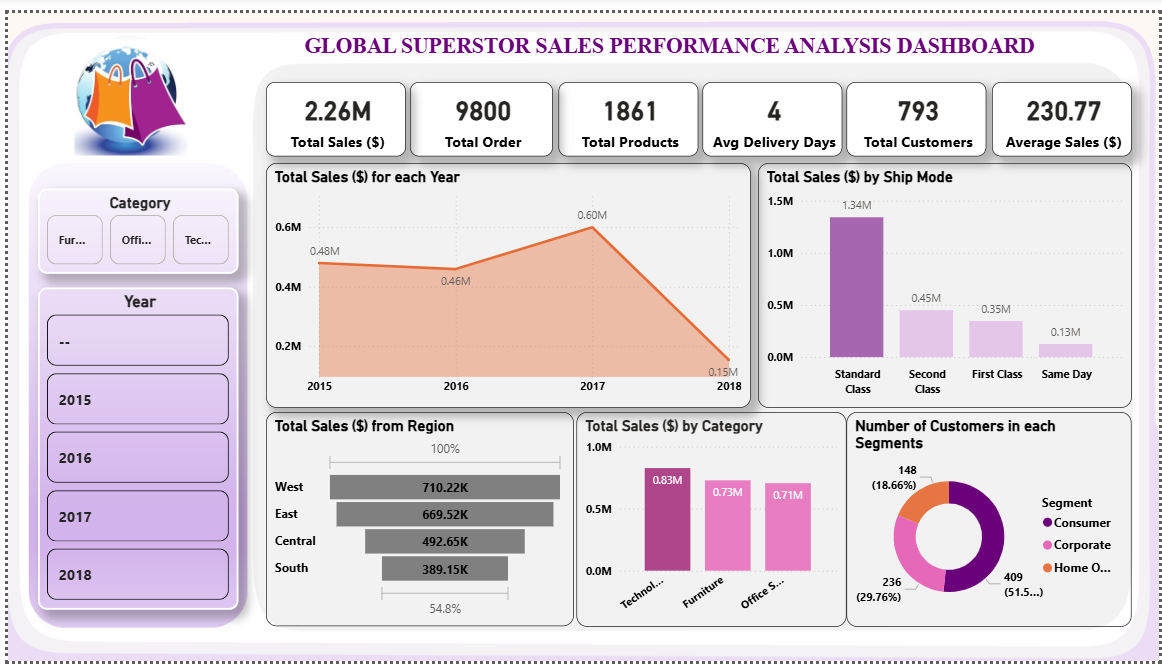

This screenshot's page, from the dashboard's own definition file:
{"tool":"powerbi","page":{"name":"Overview","canvas":[1280,720],"ordinal":1},"visuals":[{"type":"image","box":[0,0,1280,720],"z":0},{"type":"card","title":"TOTAL REVENUE","fields":{"Values":["Train.TOTAL PRODUCTS SOLD"]},"box":[611.9,77.2,155.6,82.8],"z":1000},{"type":"card","title":"TOTAL REVENUE","fields":{"Values":["Train.Total Order"]},"box":[446.9,77.2,158.7,82.8],"z":2000},{"type":"columnChart","title":"Total Sales ($) by Ship Mode","fields":{"Category":["Train.Ship Mode"],"Y":["Sum(Train.Sales ($))"]},"box":[833.3,166.7,415,271.7],"z":3000},{"type":"funnel","title":"Total Sales ($) from Region","fields":{"Category":["Train.Region"],"Y":["Sum(Train.Sales ($))"]},"box":[286.7,444,341.7,238],"z":4000},{"type":"textbox","box":[286.7,16.7,896.7,46.7],"z":5000},{"type":"image","box":[66.7,28.3,136.7,130],"z":6000},{"type":"advancedSlicerVisual","fields":{"Values":["Train.Category"]},"box":[32.5,195.2,222.8,94.3],"z":7000},{"type":"advancedSlicerVisual","fields":{"Values":["Date Table.Year"]},"box":[32.5,305.8,222.8,357.8],"z":8000},{"type":"card","title":"TOTAL REVENUE","fields":{"Values":["Train.Total Sales ($)"]},"box":[286.7,77.2,155.6,82.8],"z":9000},{"type":"card","title":"TOTAL REVENUE","fields":{"Values":["Train.Avg Delivery Days"]},"box":[772.2,77.2,155.6,82.8],"z":10000},{"type":"card","title":"TOTAL REVENUE","fields":{"Values":["Train.Total Customers"]},"box":[932.4,77.2,155.6,82.8],"z":11000},{"type":"card","title":"TOTAL REVENUE","fields":{"Values":["Train.Average Sales ($)"]},"box":[1092.7,76.7,155.6,82.8],"z":12000},{"type":"clusteredColumnChart","fields":{"Y":["Train.Total Sales ($)"],"Category":["Train.Category"]},"box":[631.7,443.3,300,238.3],"z":13000},{"type":"lineChart","title":"Total Sales ($) for each Year","fields":{"Category":["Date Table.Year"],"Y":["Train.Total Sales"]},"box":[286.7,166.7,538.3,271.7],"z":14000},{"type":"donutChart","title":"Number of Customers in each Segments","fields":{"Category":["Train.Segment"],"Y":["Train.Number of Customers"]},"box":[931.7,443.3,316.7,238.3],"z":15000}]}

Visuals, with their boxes in screenshot pixels (x1, y1, x2, y2), scaled from the page's 1280x720 canvas onto the 1162x667 screenshot:
image: crop(0, 0, 1161, 666)
"TOTAL REVENUE" card: crop(555, 72, 697, 148)
"TOTAL REVENUE" card: crop(406, 72, 550, 148)
"Total Sales ($) by Ship Mode" columnChart: crop(756, 154, 1133, 406)
"Total Sales ($) from Region" funnel: crop(260, 411, 570, 632)
textbox: crop(260, 15, 1074, 59)
image: crop(61, 26, 185, 147)
advancedSlicerVisual - Train.Category: crop(30, 181, 232, 268)
advancedSlicerVisual - Date Table.Year: crop(30, 283, 232, 615)
"TOTAL REVENUE" card: crop(260, 72, 402, 148)
"TOTAL REVENUE" card: crop(701, 72, 842, 148)
"TOTAL REVENUE" card: crop(846, 72, 988, 148)
"TOTAL REVENUE" card: crop(992, 71, 1133, 148)
clusteredColumnChart - Train.Total Sales ($) x Train.Category: crop(573, 411, 846, 631)
"Total Sales ($) for each Year" lineChart: crop(260, 154, 749, 406)
"Number of Customers in each Segments" donutChart: crop(846, 411, 1133, 631)
